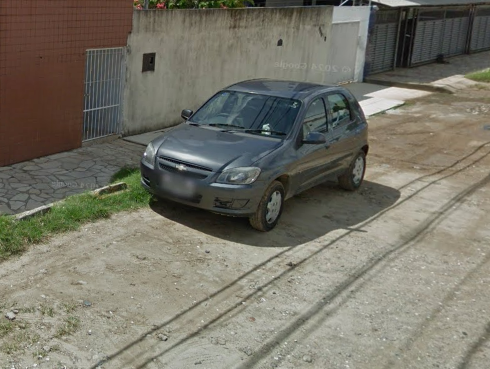car: (138, 77, 372, 231)
